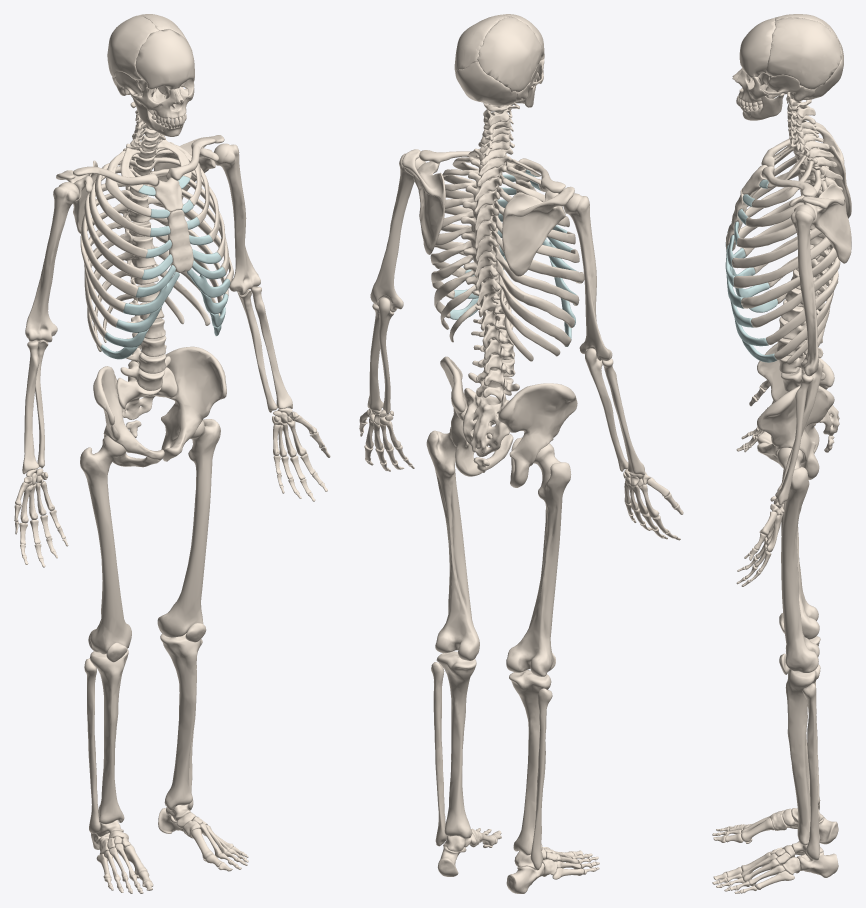
The model's file is skeleton.glb.
3 renders of one model, left to right at view 1: azimuth 30°, elevation 25°; view 2: azimuth 150°, elevation 25°; view 3: azimuth 270°, elevation 25°, orthographic. The views are drawn at different scales.
Parts seen in each view (by area): view 1: Femur R, Femur L, Hip bone L, Tibia L, Tibia R, Frontal bone, Humerus R, Humerus L, Hip bone R, Parietal bone R, Sacrum, Fibula R (+18 smaller); view 2: Femur R, Femur L, Hip bone R, Scapula R, Parietal bone R, Tibia L, Tibia R, Humerus R, Scapula L, Hip bone L, Humerus L, Sacrum (+15 smaller); view 3: Parietal bone L (×2), Femur L, Hip bone L, Tibia L, Humerus L, Scapula L, Fibula L, Frontal bone, Hip bone R, Radius L, Rib (7th) L, Rib (6th) L (+26 smaller).
Part boxes in pixels (left/top/right/bottom): Femur R: left=80, top=435, right=131, bottom=654; Femur L: left=157, top=419, right=220, bottom=637; Hip bone L: left=161, top=346, right=226, bottom=461; Tibia L: left=160, top=633, right=201, bottom=810; Tibia R: left=89, top=649, right=128, bottom=824; Frontal bone: left=135, top=29, right=194, bottom=89; Humerus R: left=25, top=182, right=79, bottom=342; Humerus L: left=214, top=143, right=260, bottom=295; Hip bone R: left=93, top=366, right=164, bottom=467; Parietal bone R: left=107, top=15, right=158, bottom=79; Sacrum: left=116, top=367, right=177, bottom=419; Fibula R: left=84, top=658, right=100, bottom=833; Femur R: left=506, top=443, right=571, bottom=676; Femur L: left=426, top=427, right=479, bottom=660; Hip bone R: left=498, top=383, right=577, bottom=487; Scapula R: left=502, top=186, right=574, bottom=276; Parietal bone R: left=477, top=16, right=542, bottom=92; Tibia L: left=436, top=651, right=476, bottom=838; Tibia R: left=509, top=670, right=551, bottom=855; Humerus R: left=563, top=193, right=612, bottom=360; Scapula L: left=402, top=149, right=445, bottom=254; Hip bone L: left=440, top=356, right=513, bottom=476; Humerus L: left=370, top=153, right=425, bottom=312; Sacrum: left=463, top=387, right=509, bottom=456; Parietal bone L (×2): left=766, top=17, right=841, bottom=89; Femur L: left=777, top=447, right=819, bottom=672; Hip bone L: left=757, top=385, right=834, bottom=479; Tibia L: left=785, top=664, right=820, bottom=845; Humerus L: left=790, top=204, right=818, bottom=376; Scapula L: left=789, top=183, right=851, bottom=263; Fibula L: left=802, top=683, right=819, bottom=860; Frontal bone: left=739, top=17, right=775, bottom=77; Hip bone R: left=757, top=343, right=834, bottom=453; Radius L: left=775, top=374, right=813, bottom=504; Rib (7th) L: left=741, top=247, right=837, bottom=308; Rib (6th) L: left=733, top=236, right=831, bottom=288.
Size of the model in its own units: 0.6711 by 1.7 by 0.2542.
